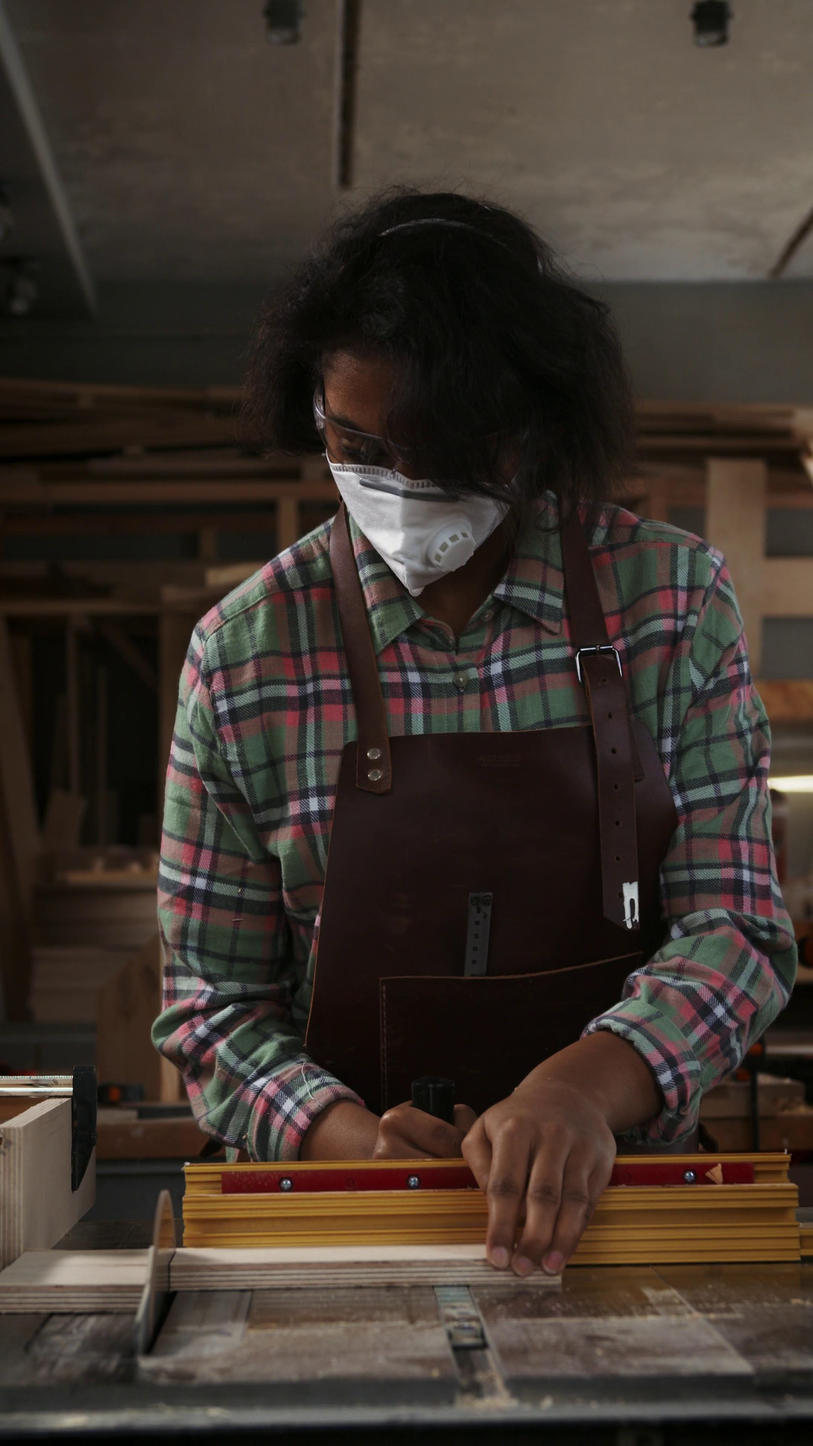mask: (326, 459, 511, 597)
person: (141, 189, 801, 1279)
